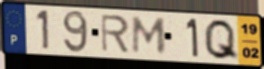1: (35, 8, 51, 51), (185, 17, 200, 59)
9: (60, 9, 90, 54)
M: (131, 15, 168, 55)
Q: (203, 18, 241, 62)
R: (99, 13, 131, 54)
